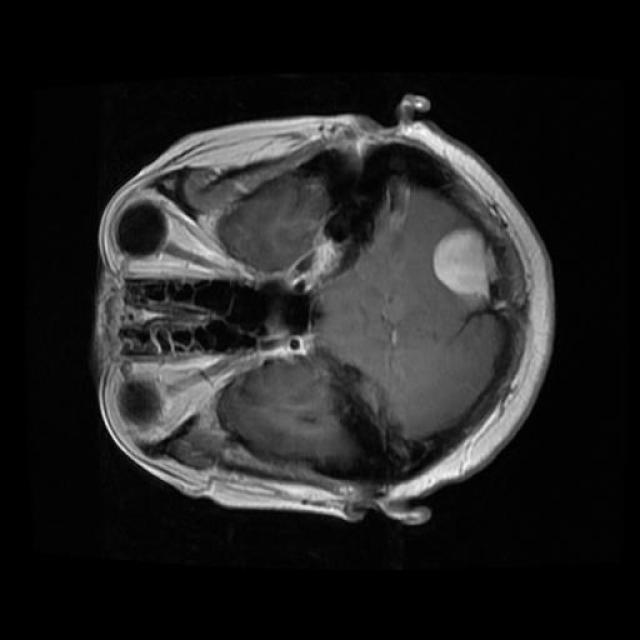Meningioma: (434, 228, 495, 306)
